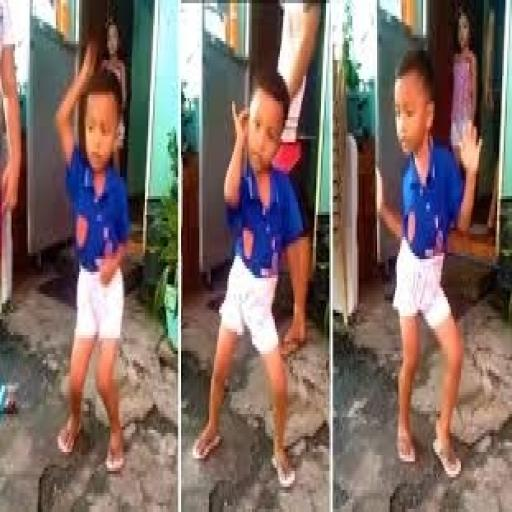dancing: (191, 66, 311, 493), (374, 44, 486, 484), (53, 32, 135, 477)
